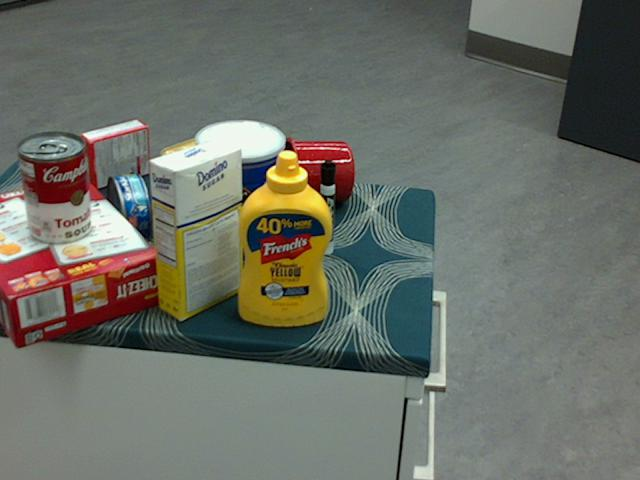cracker_box: (0, 173, 164, 347)
gelatin_box: (80, 119, 148, 189)
large_marker: (319, 159, 336, 254)
master_chef_can: (192, 118, 283, 263)
mug: (277, 135, 353, 207)
mustard_bottle: (238, 149, 332, 325)
potted_meat_can: (159, 130, 238, 221)
sugar_box: (148, 138, 243, 319)
tomato_soup_can: (16, 131, 91, 244)
tuna_fish_can: (104, 173, 149, 247)
